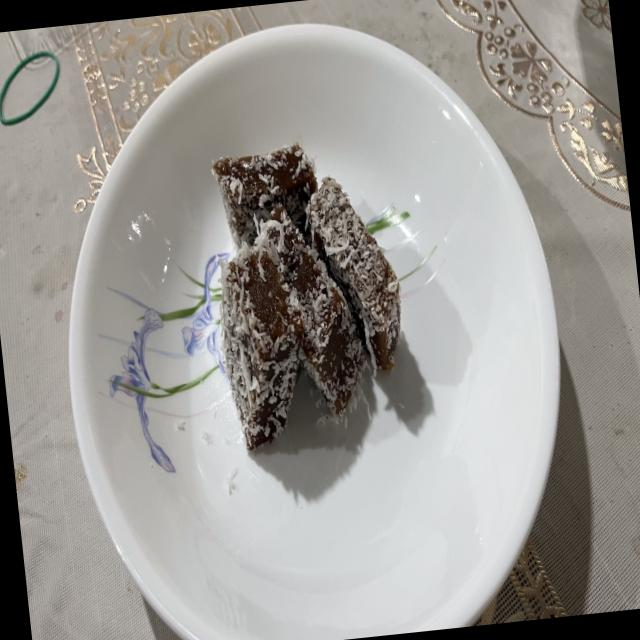kaswi: (260, 206, 364, 414), (306, 176, 401, 369), (220, 237, 304, 450), (212, 142, 317, 246)
